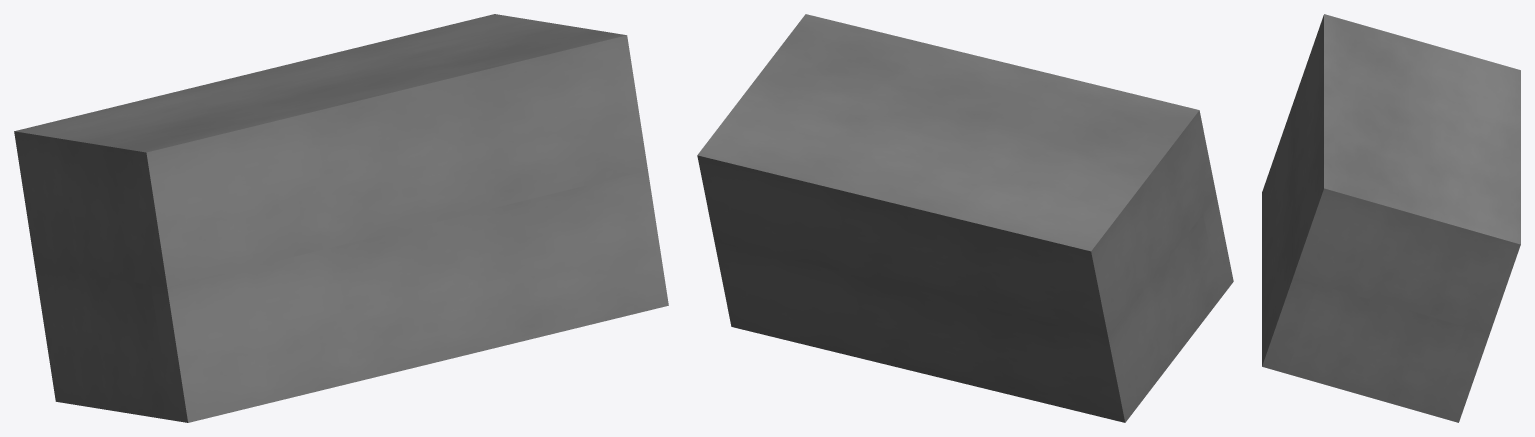
File: dc_metro_arch_a9.obj
The picture shows the model from 3 angles, left to right: view 1: azimuth 30°, elevation 25°; view 2: azimuth 150°, elevation 25°; view 3: azimuth 270°, elevation 25°; orthographic projection. The views are drawn at different scales.
Visible parts, largest first — view 1: part9; view 2: part9; view 3: part9.
Part boxes in pixels (box(x1,y1,x2,y2)): part9: box(14, 14, 668, 422); part9: box(697, 14, 1233, 422); part9: box(1262, 14, 1520, 422).
Bounding box in the file's own units: 2 × 1.25 × 1.25.
Materials: 1 (1 with a texture image).
